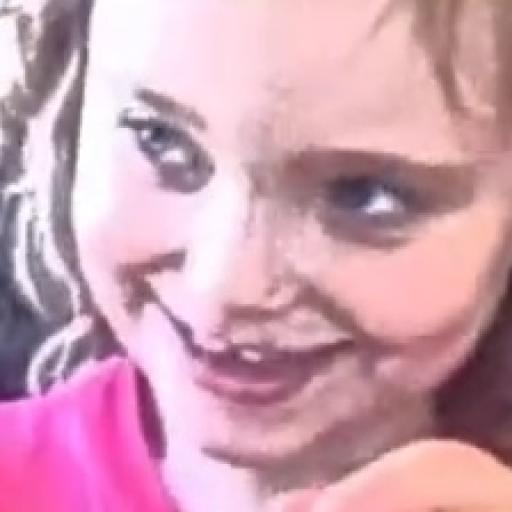Autism: (50, 3, 512, 493)
